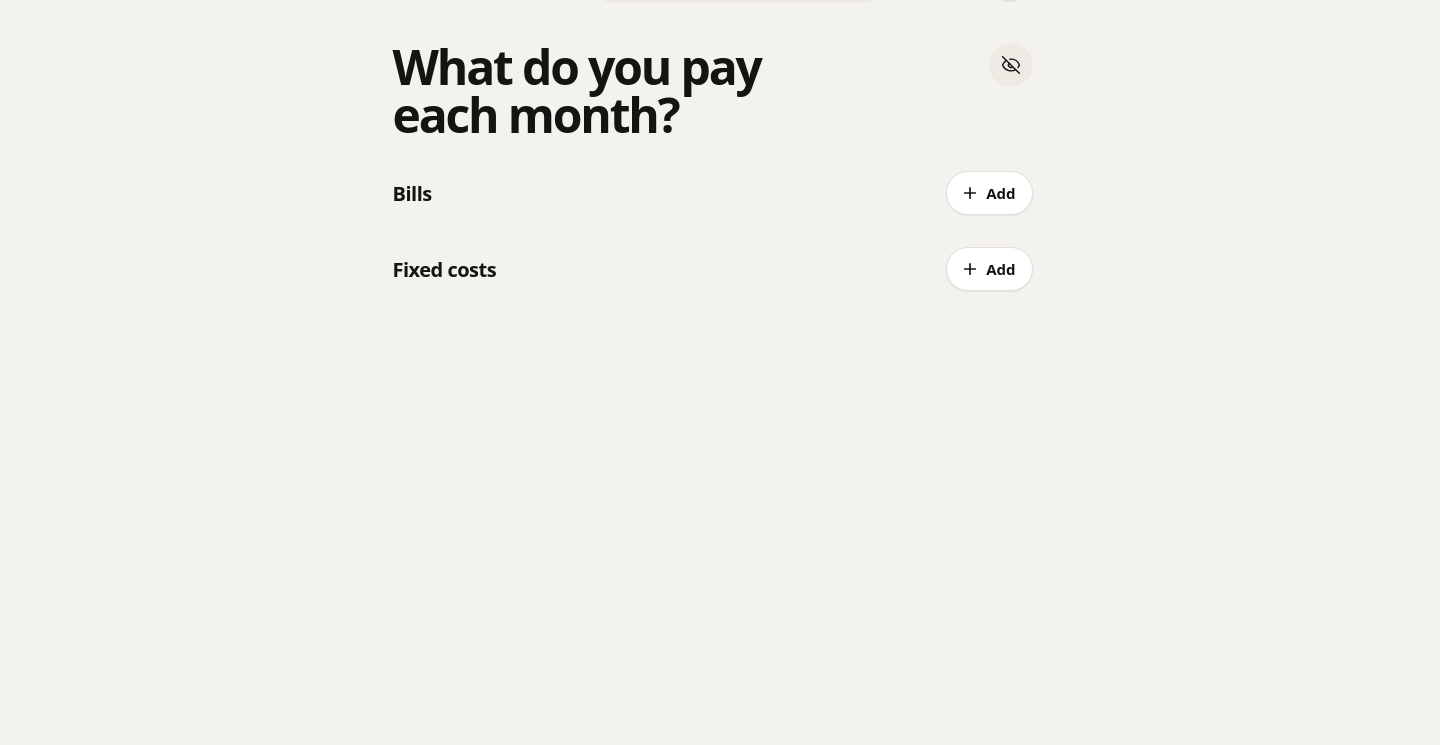
Test: App › says when fixed costs could not be saved
Click the button with aria-label "Add fixed cost" at [989, 269], box [946,247,1032,291]
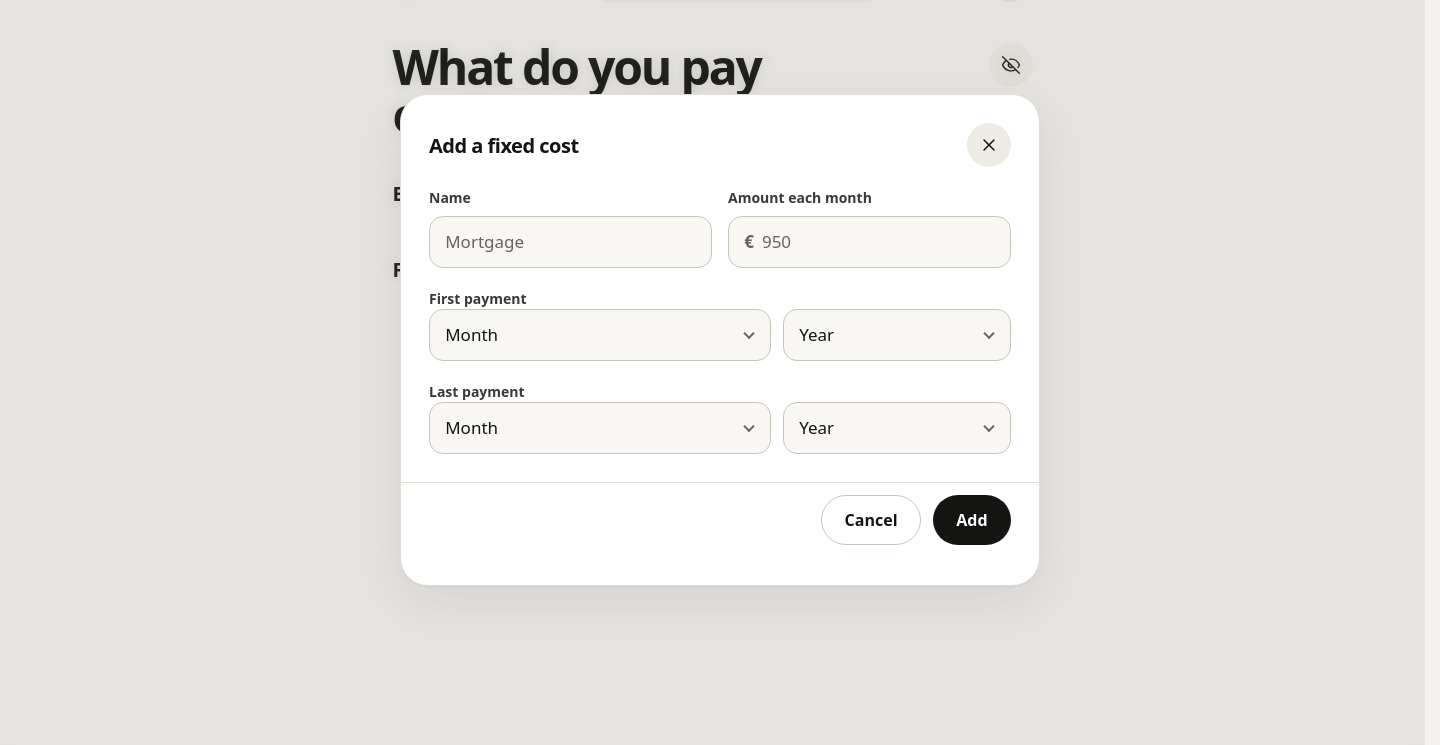
Type "Rent" into the field labelled "Name" at [570, 242], box [429,216,712,268]
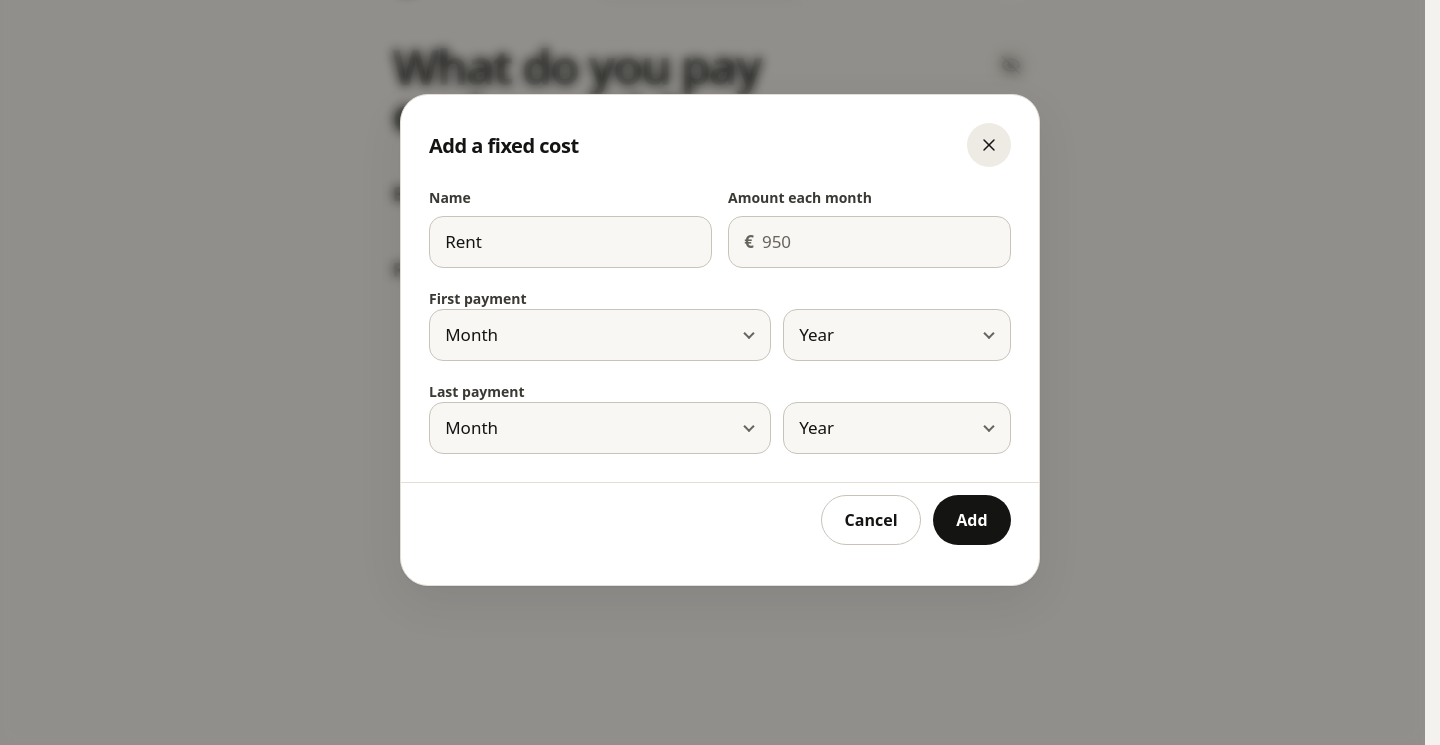
Type "900" into the field labelled "Amount each month" at [884, 242], box [762,218,1005,266]
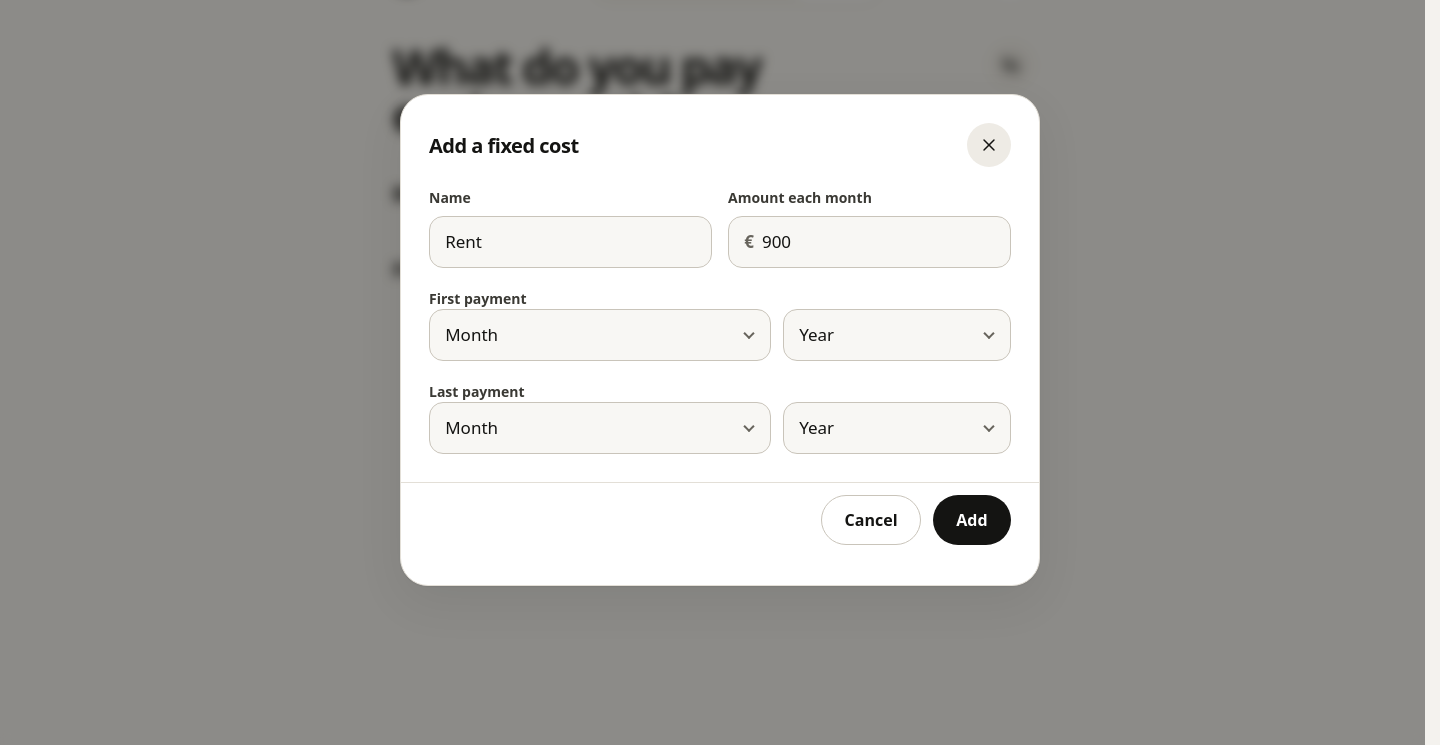
Click the button "Add" at [972, 520], box [933,495,1011,545]
(page scrolled)
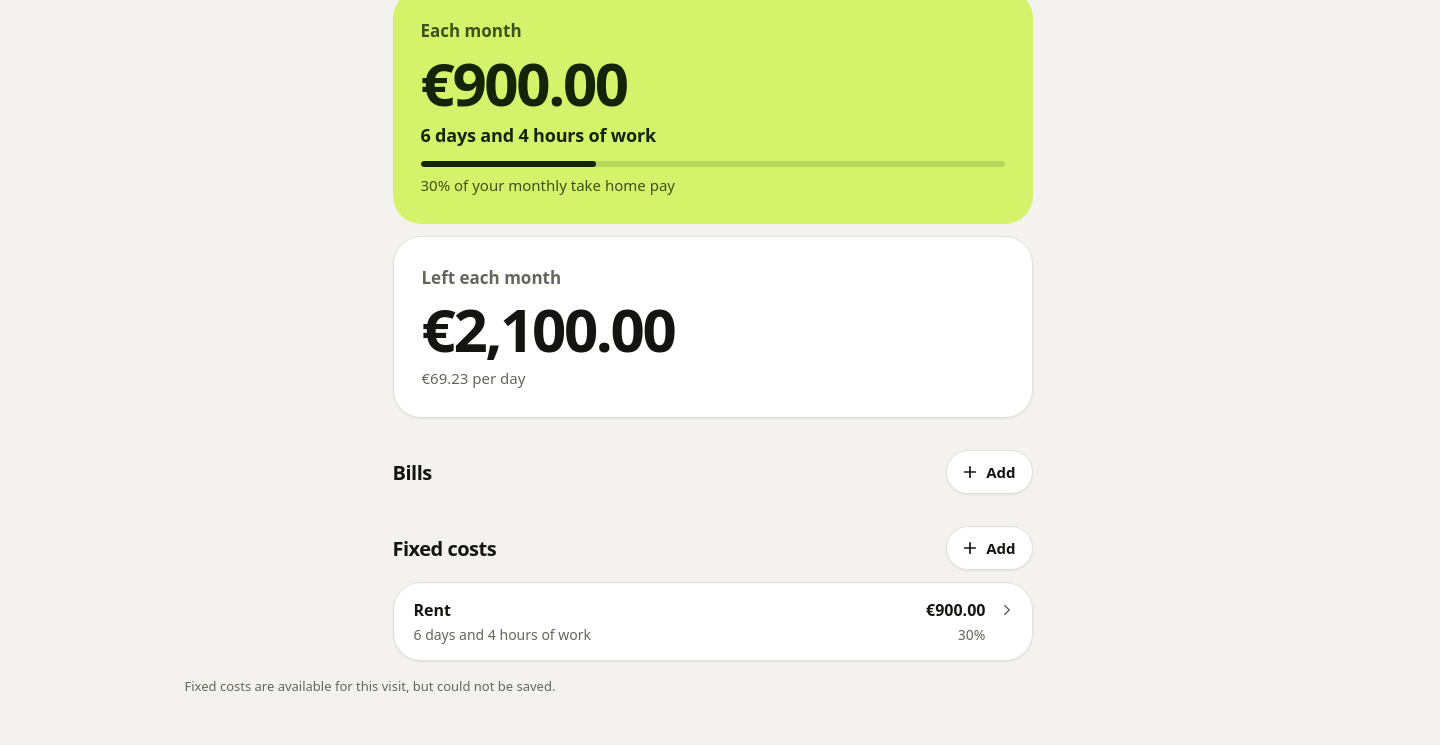
expect the text "Fixed costs are available for this visit, but could not be saved." is shown: met, box [184,677,555,695]
expect the button with aria-label "Edit Rent" is shown: met, box [414,598,914,622]
